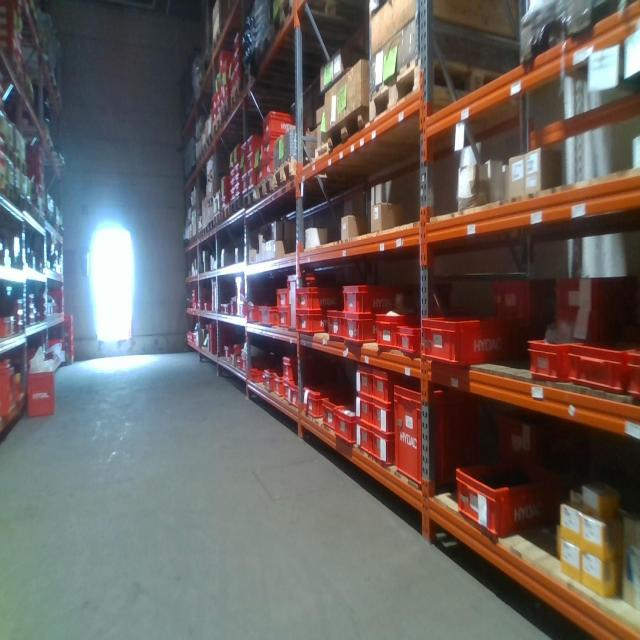pallet: (367, 53, 520, 123), (271, 1, 371, 47), (327, 102, 372, 156), (272, 157, 308, 194), (228, 78, 250, 113), (256, 173, 274, 201), (231, 191, 244, 218), (221, 95, 230, 131), (207, 169, 227, 185), (244, 185, 256, 209), (213, 111, 222, 139), (222, 200, 230, 224), (206, 194, 216, 209), (214, 210, 220, 231), (208, 218, 214, 237)
small_load_carrier: (390, 381, 475, 490), (496, 404, 577, 516), (452, 447, 542, 546), (417, 308, 508, 367), (564, 338, 624, 398), (487, 271, 551, 316), (523, 331, 572, 387), (554, 271, 614, 311), (342, 280, 403, 316), (374, 306, 417, 354), (287, 270, 317, 331), (23, 371, 56, 422), (557, 317, 625, 340), (332, 396, 363, 445), (344, 314, 388, 345), (317, 384, 343, 434), (295, 282, 339, 310), (280, 350, 324, 378), (301, 381, 327, 426), (259, 105, 296, 136), (0, 359, 18, 419), (371, 370, 399, 404), (398, 322, 425, 354), (373, 431, 397, 466), (622, 352, 638, 404), (297, 313, 327, 338), (354, 365, 373, 404), (373, 399, 396, 431), (327, 307, 346, 344), (354, 424, 373, 458), (285, 377, 305, 407), (255, 303, 278, 328), (262, 364, 280, 395), (356, 396, 373, 427), (245, 133, 264, 158), (261, 141, 277, 160), (255, 151, 263, 189), (272, 374, 286, 395), (232, 29, 244, 53), (246, 303, 259, 324), (262, 160, 277, 178), (275, 286, 286, 310), (248, 173, 259, 195), (277, 310, 289, 328), (230, 47, 242, 65), (246, 158, 260, 173), (281, 377, 292, 396), (234, 60, 242, 86), (250, 366, 263, 382), (240, 159, 249, 178), (239, 138, 246, 158), (63, 314, 73, 327), (63, 328, 73, 340), (244, 178, 249, 195), (64, 340, 73, 348)
